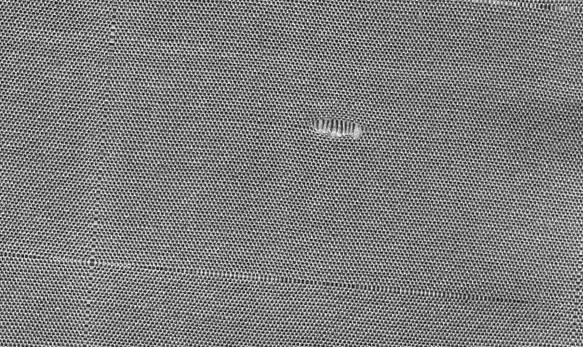slub: (301, 111, 370, 143)
